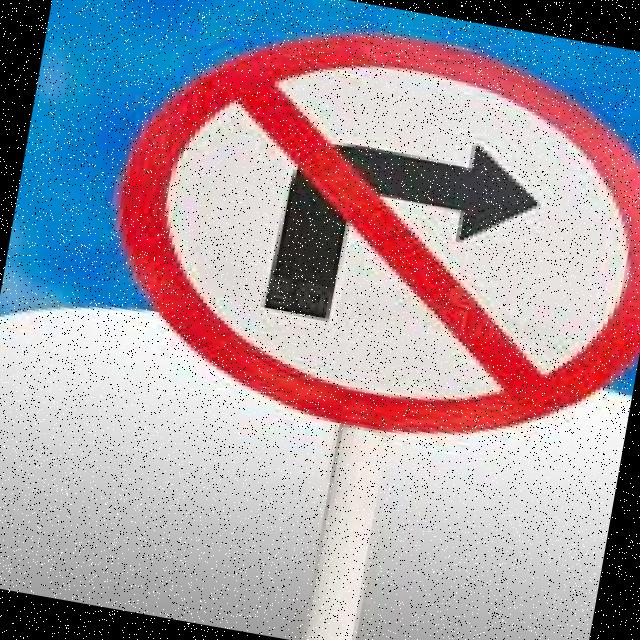do_not_turn_right: (75, 0, 640, 481)
